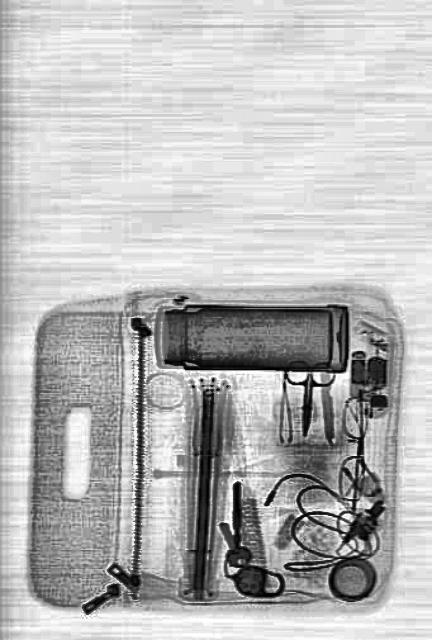Scissors: (279, 356, 335, 439)
